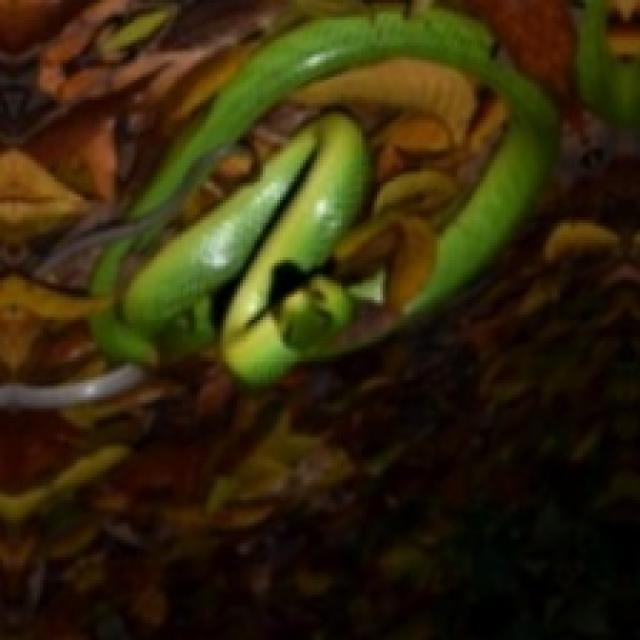red-tailed green ratsnake: (0, 0, 554, 406)
